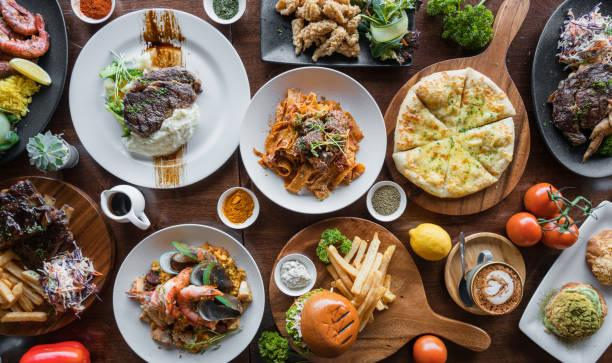Braised Crucian Carp: (68, 7, 245, 188), (271, 215, 488, 362), (382, 60, 529, 217), (240, 65, 386, 215), (112, 223, 263, 362), (2, 176, 114, 334), (515, 202, 611, 362), (530, 0, 612, 178), (260, 0, 412, 68)
